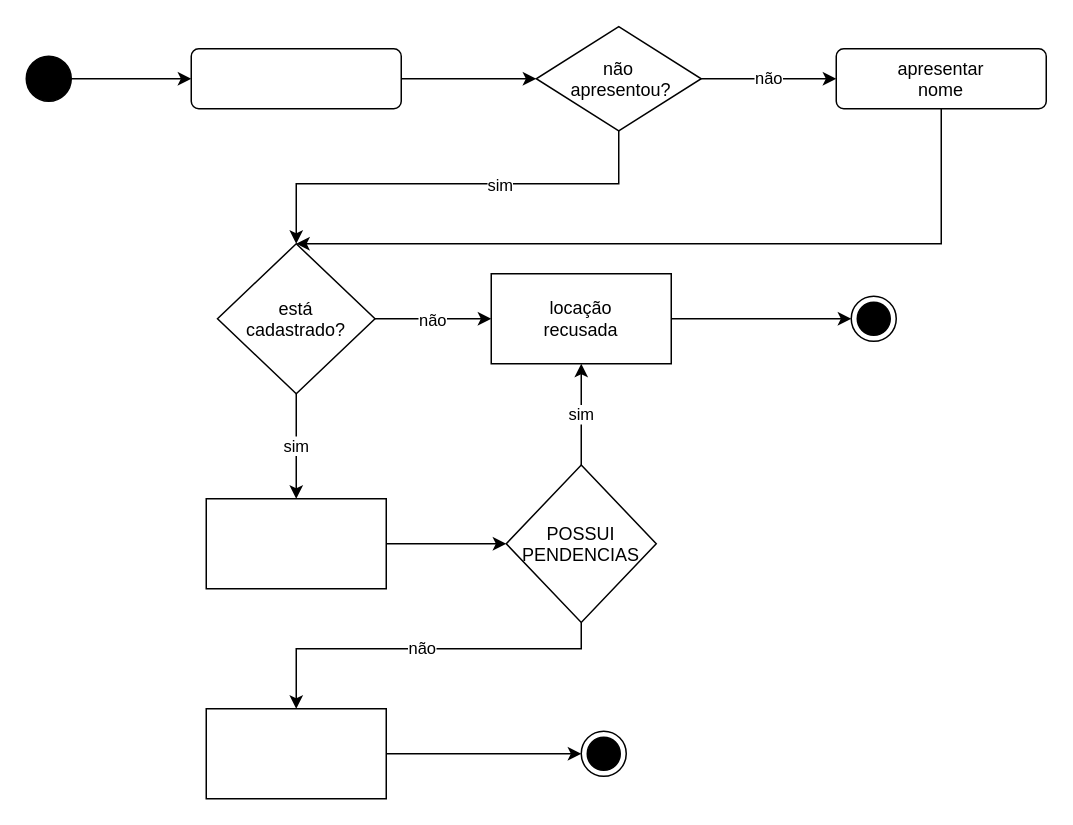
Image size: 1073x825. Some labels were removed from this diagram. The centre of each missing label's shape, as x and y in pixels:
"apresentar código" goes at point (295, 78).
"registrar locação" goes at point (295, 753).
"verificar se tem pendência" goes at point (295, 543).
